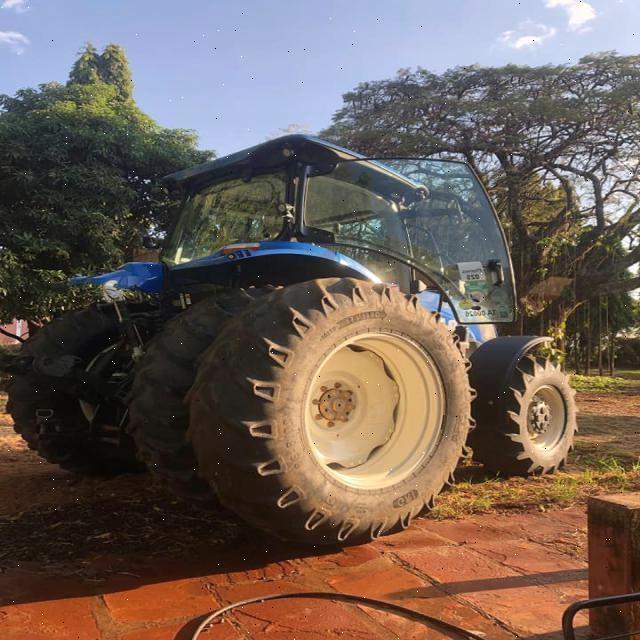Tratores - v5 YOLO V8L 2024-11-13: (0, 118, 574, 550)
